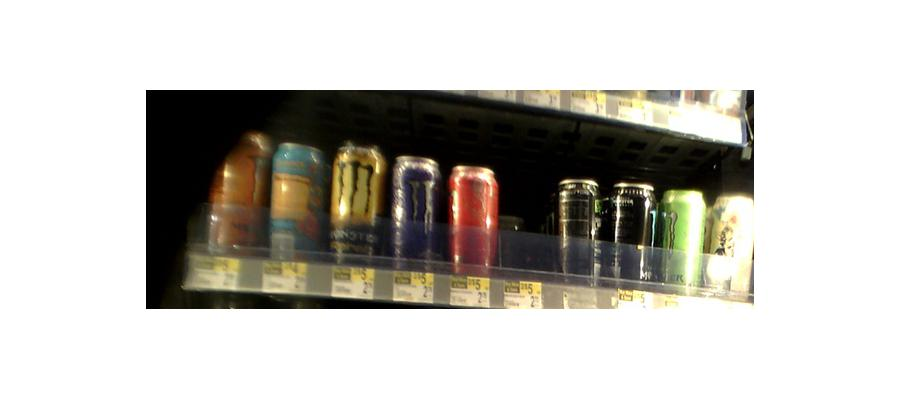bottle: (209, 126, 267, 262), (328, 142, 386, 270), (268, 141, 325, 270), (389, 151, 442, 274), (447, 161, 497, 273), (556, 176, 604, 280), (612, 179, 657, 287), (660, 187, 706, 291), (712, 191, 755, 290)
